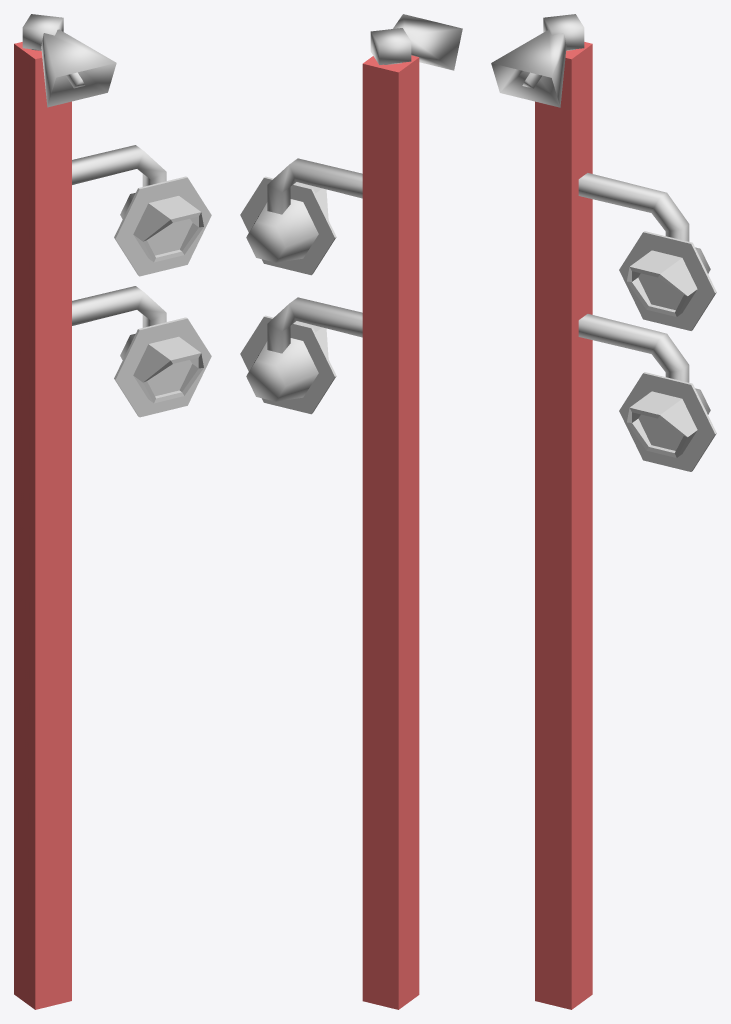
The model's file is prop_train_crossing.glb.
3 views of the same model, side by side, from view 1: azimuth 30°, elevation 25°; view 2: azimuth 150°, elevation 25°; view 3: azimuth 330°, elevation 25° (orthographic).
Parts seen in each view (by area): view 1: brush_box.015, prop_train_crossing; view 2: brush_box.015, prop_train_crossing; view 3: brush_box.015, prop_train_crossing.
Boxes of the visible parts, bbox=[...] form: brush_box.015: bbox=[14, 42, 71, 1009]; prop_train_crossing: bbox=[22, 14, 211, 417]; brush_box.015: bbox=[362, 55, 419, 1009]; prop_train_crossing: bbox=[240, 14, 462, 414]; brush_box.015: bbox=[535, 42, 592, 1009]; prop_train_crossing: bbox=[491, 14, 716, 471].
Bounding box in the file's own units: 1.44 × 7.07 × 0.7596.
